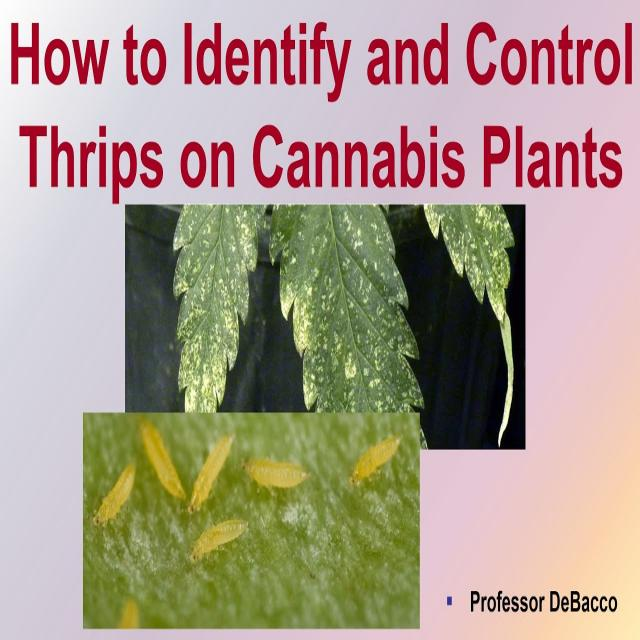Thrip-Larva-: (85, 446, 146, 533), (186, 427, 242, 513), (232, 446, 318, 499), (140, 412, 188, 503), (182, 512, 250, 571), (349, 422, 404, 492)
